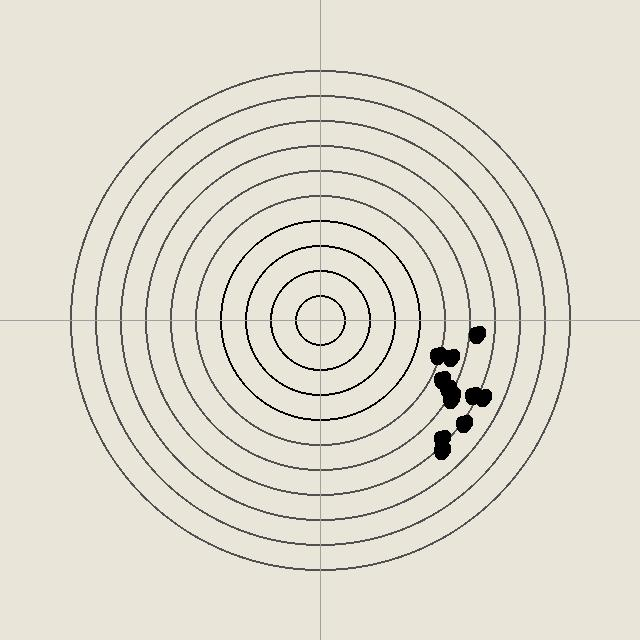good_group: (431, 369, 451, 389), (462, 385, 482, 405), (431, 428, 451, 448), (437, 378, 457, 398), (453, 413, 473, 433), (466, 324, 486, 344), (440, 389, 460, 409), (440, 347, 460, 367), (431, 440, 451, 460), (427, 345, 447, 365), (472, 387, 492, 407), (441, 385, 461, 405)
